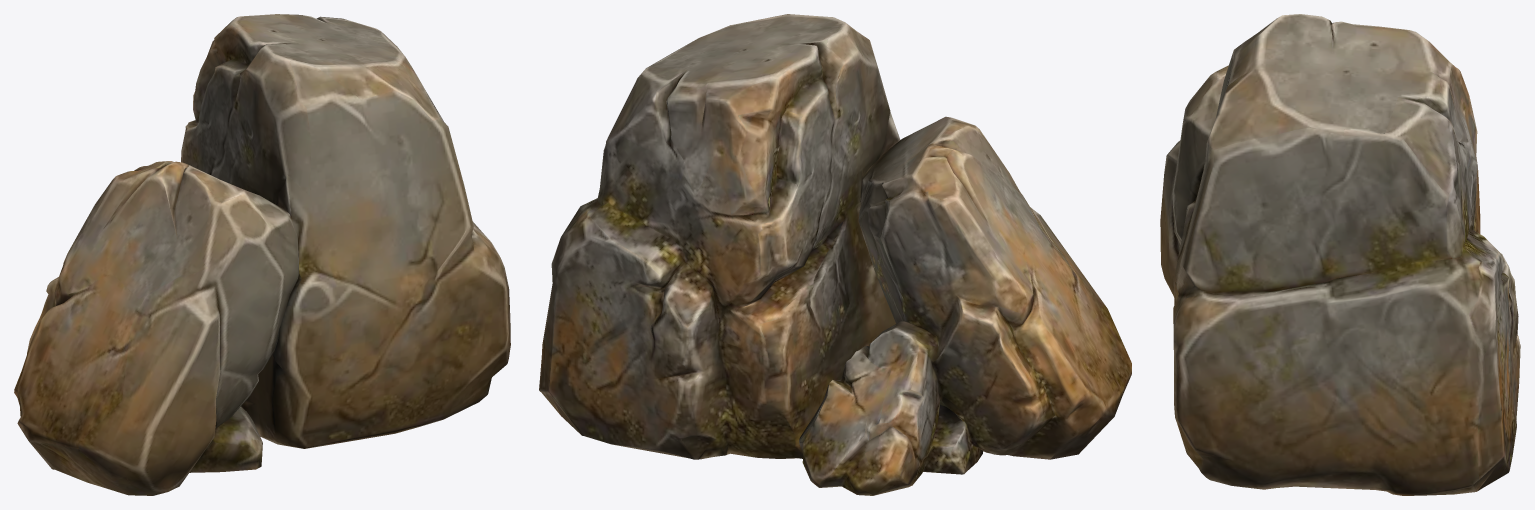
The model's file is stones.glb.
3 views of the same model, side by side, from view 1: azimuth 30°, elevation 25°; view 2: azimuth 150°, elevation 25°; view 3: azimuth 270°, elevation 25° (orthographic). The views are drawn at different scales.
Size of the model in its own units: 0.9575 by 0.7041 by 0.6011.
1 material, 1 textured.
